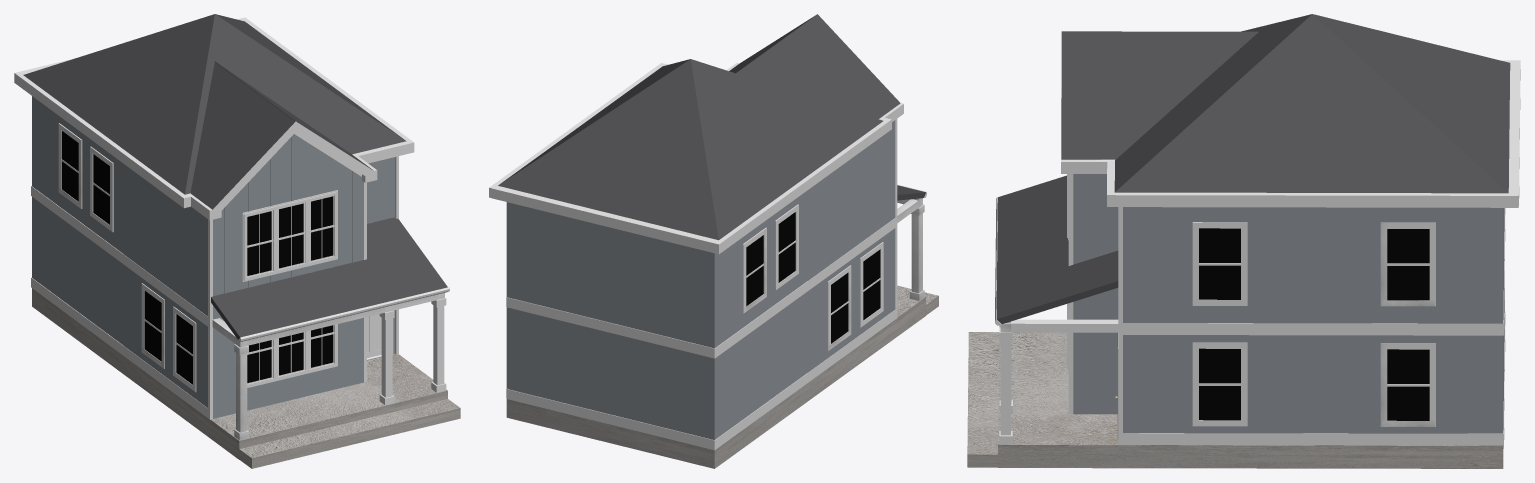
Rendered from house_3.glb.
3 views of the same model, side by side, from view 1: azimuth 30°, elevation 25°; view 2: azimuth 150°, elevation 25°; view 3: azimuth 270°, elevation 25° (orthographic). The views are drawn at different scales.
Parts seen in each view (by area): view 1: Pyramid, Cube_2_6, Cube_1_5, Cube_5_5, Cube_5_6, Cube_17_2, Cube_48, Cube_4_6, Cylinder_2_2, Cube_3_6, Cube_24_2, Cube_58 (+16 smaller); view 2: Cube_1_5, Pyramid, Cube_2_6, Cube_5_6, Cube_17_2, Cube_56, Cube_24_2, Cube_55, Cube_57, Cube_52, Cube_58, Cube_48 (+8 smaller); view 3: Cube_1_5, Pyramid, Cube_5_6, Cube_16_2, Cube_5_5, Cube_48, Cube_2_6, Cube_22_2, Cube_47, Cube_29_2, Cube_59, Cube_62 (+12 smaller).
Part boxes in pixels (bbox=[...]): Pyramid: bbox=[23, 14, 406, 194]; Cube_2_6: bbox=[123, 164, 363, 418]; Cube_1_5: bbox=[32, 96, 394, 353]; Cube_5_5: bbox=[211, 217, 447, 341]; Cube_5_6: bbox=[32, 288, 447, 459]; Cube_17_2: bbox=[190, 62, 294, 209]; Cube_48: bbox=[44, 305, 460, 468]; Cube_4_6: bbox=[247, 196, 333, 275]; Cylinder_2_2: bbox=[227, 134, 358, 206]; Cube_3_6: bbox=[247, 325, 333, 382]; Cube_24_2: bbox=[21, 77, 192, 208]; Cube_58: bbox=[31, 277, 207, 417]; Cube_1_5: bbox=[506, 190, 807, 439]; Pyramid: bbox=[498, 59, 882, 240]; Cube_2_6: bbox=[808, 120, 894, 372]; Cube_5_6: bbox=[506, 290, 925, 468]; Cube_17_2: bbox=[737, 15, 900, 118]; Cube_56: bbox=[491, 183, 725, 254]; Cube_24_2: bbox=[713, 118, 891, 248]; Cube_55: bbox=[506, 297, 712, 357]; Cube_57: bbox=[506, 389, 712, 449]; Cube_52: bbox=[711, 218, 895, 358]; Cube_58: bbox=[711, 310, 895, 450]; Cube_48: bbox=[727, 285, 938, 458]; Cube_1_5: bbox=[1123, 207, 1504, 445]; Pyramid: bbox=[1114, 14, 1510, 193]; Cube_5_6: bbox=[998, 325, 1503, 468]; Cube_16_2: bbox=[1061, 31, 1258, 159]; Cube_5_5: bbox=[996, 175, 1118, 324]; Cube_48: bbox=[967, 332, 1472, 468]; Cube_2_6: bbox=[1073, 174, 1118, 414]; Cube_22_2: bbox=[1123, 192, 1518, 207]; Cube_47: bbox=[1123, 431, 1503, 445]; Cube_29_2: bbox=[1123, 322, 1503, 335]; Cube_59: bbox=[1387, 229, 1429, 300]; Cube_62: bbox=[1387, 349, 1429, 420].
Bounding box in the file's own units: 8.85 × 11.89 × 15.15.
Materials: 7 (2 with a texture image).
